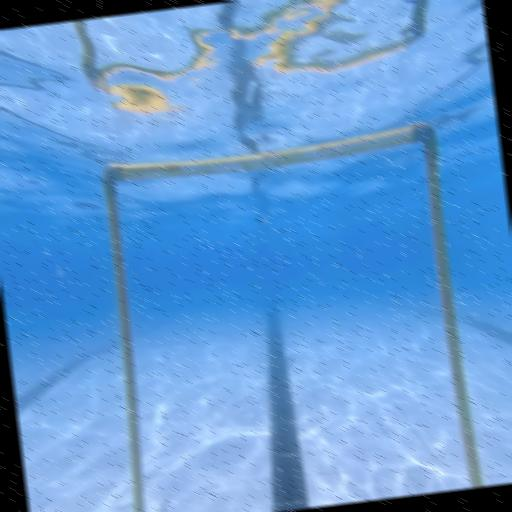gate: (88, 121, 484, 512)
